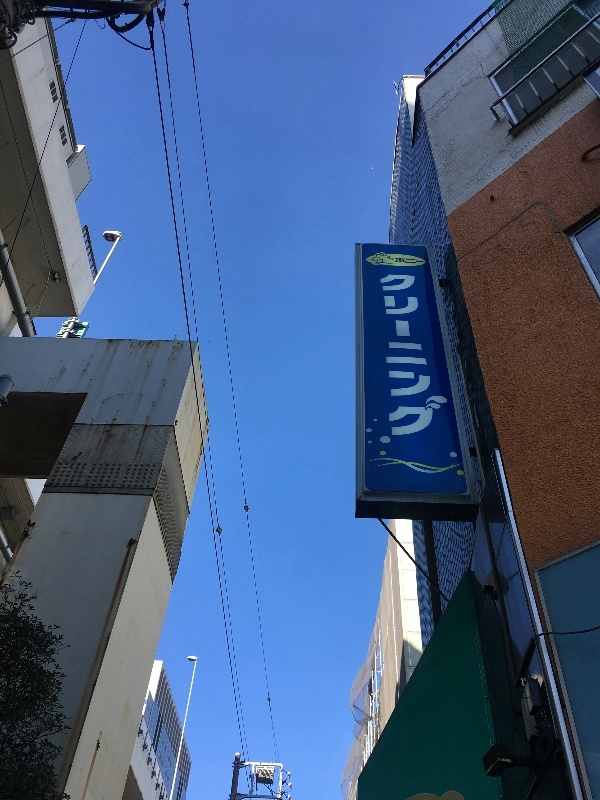text: (385, 272, 400, 436), (401, 272, 416, 436), (417, 272, 432, 436), (433, 272, 439, 436), (379, 272, 384, 436), (395, 257, 400, 264), (401, 257, 406, 264)
